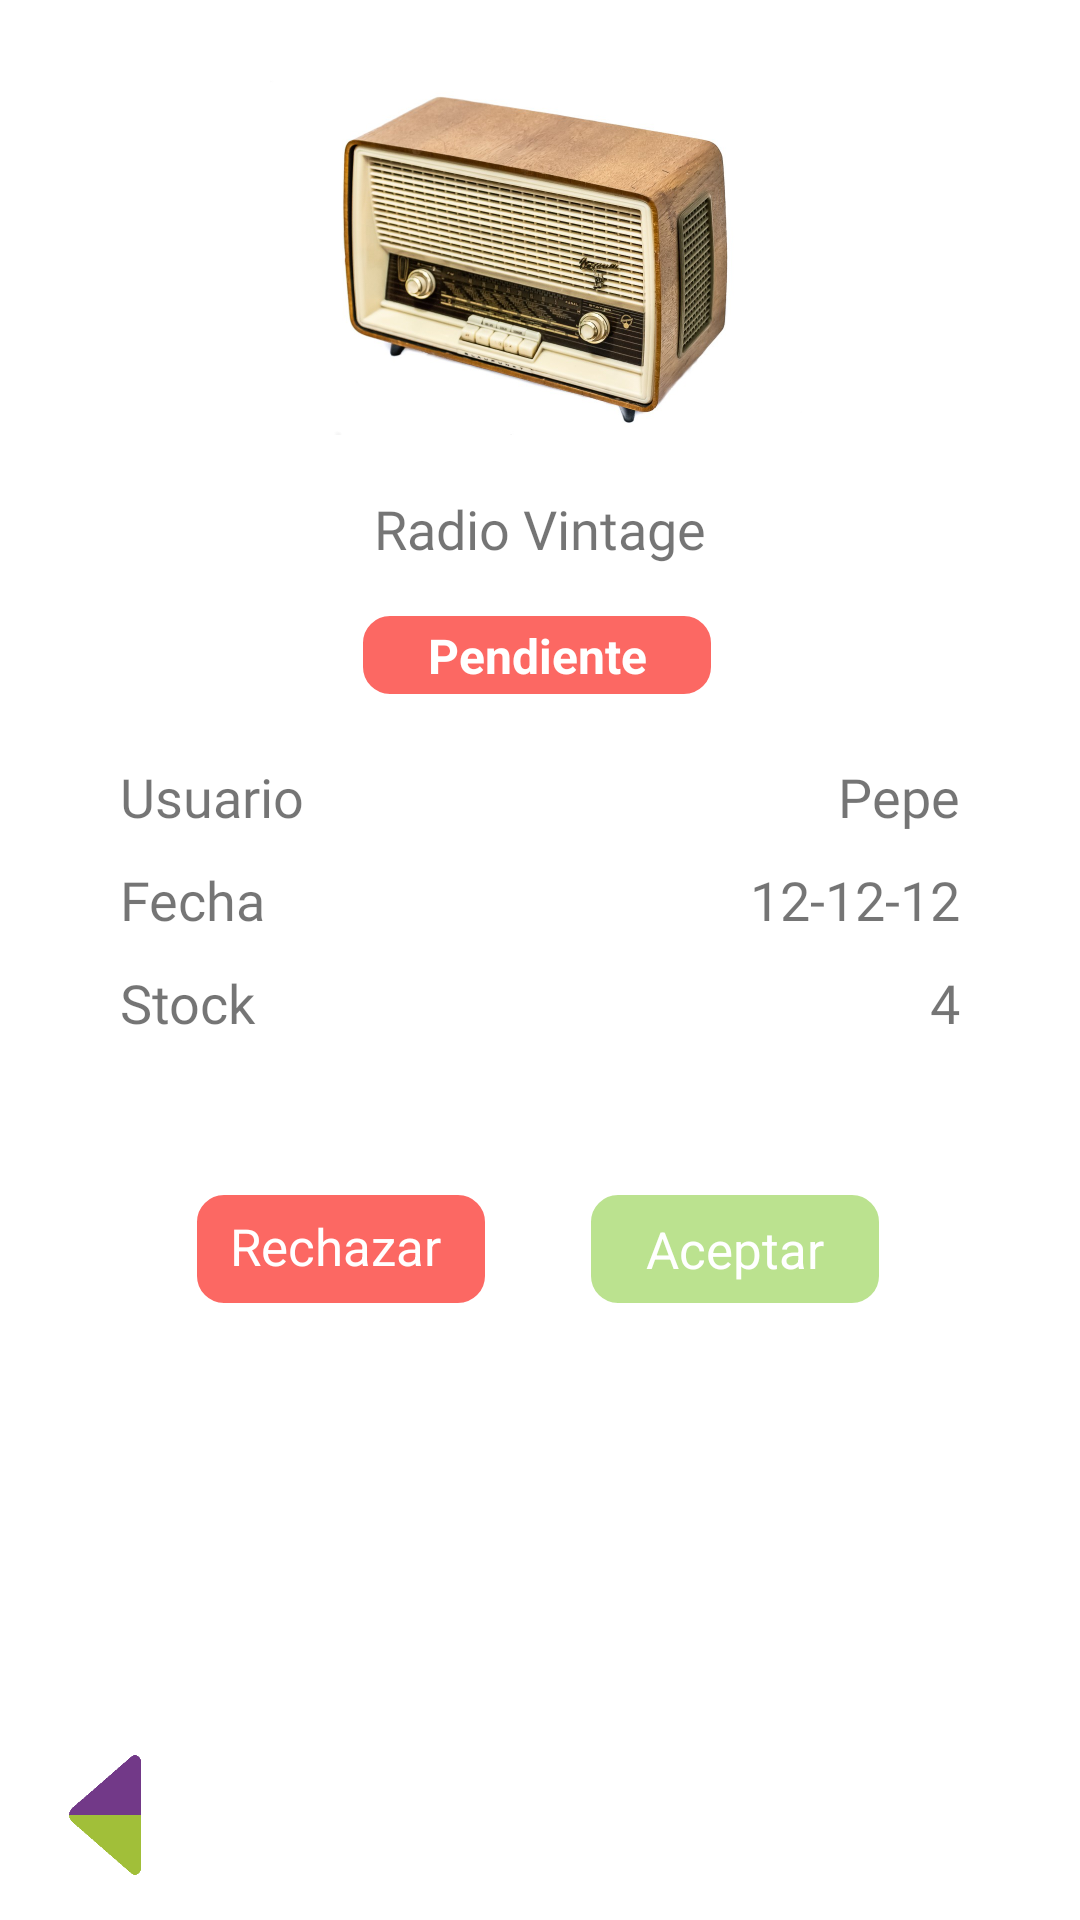

Locate icon controls on the screen. Image size 1080px x 1920px, boxes as bbox=[x1, y1, x2, y2].
volver sc: bbox=[69, 1755, 141, 1875]
